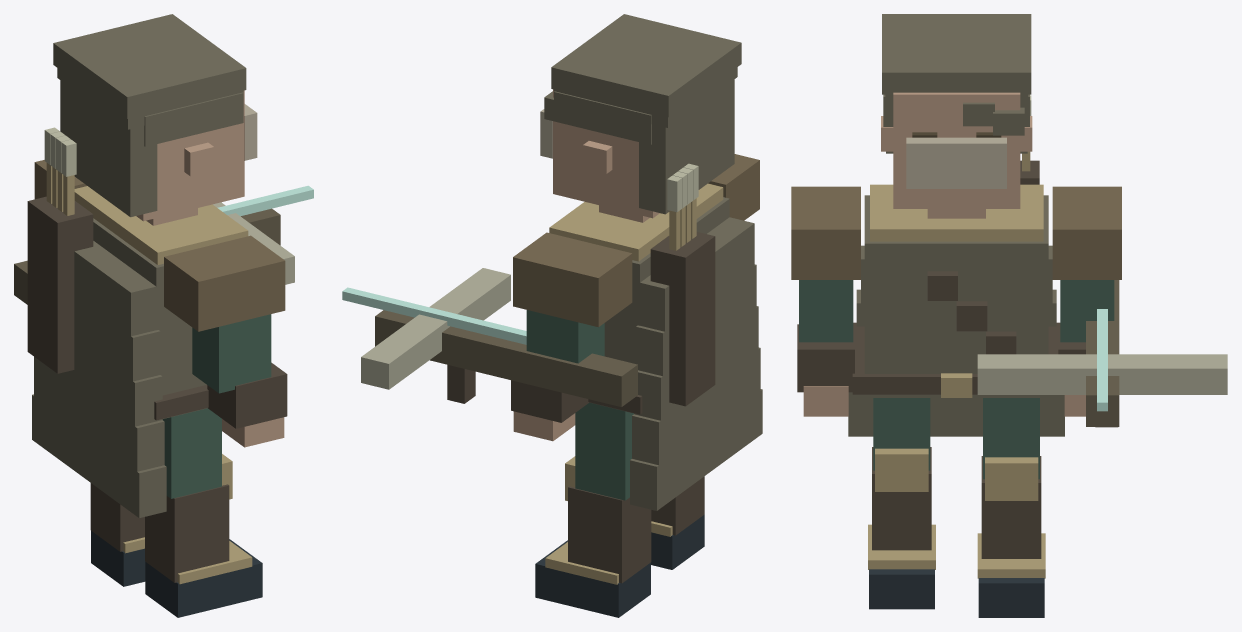
File: trail-arbalist.glb
3 views of the same model, side by side, from view 1: azimuth 30°, elevation 25°; view 2: azimuth 150°, elevation 25°; view 3: azimuth 270°, elevation 25° (orthographic). The views are drawn at different scales.
Parts seen in each view (by area): view 1: Cloak, Boots, Hood, Hair, Shoulders, Quiver, Head, Collar, Sleeves, Legs, Torso, Bracers (+10 smaller); view 2: Cloak, Boots, Hood, Hair, Shoulders, CrossbowStock, Quiver, CrossbowLimbs, Head, Legs, Collar, Sleeves (+9 smaller); view 3: Torso, Shoulders, Boots, Hood, CrossbowLimbs, Head, Legs, Collar, Sleeves, Cloak, Mask, Kneeguards (+11 smaller).
Part boxes in pixels (bbox=[...]): Cloak: bbox=[32, 241, 166, 518]; Boots: bbox=[90, 483, 262, 617]; Hood: bbox=[53, 14, 246, 118]; Hair: bbox=[57, 68, 243, 217]; Shoulders: bbox=[34, 160, 285, 331]; Quiver: bbox=[27, 196, 93, 373]; Head: bbox=[136, 90, 244, 221]; Collar: bbox=[74, 186, 248, 264]; Sleeves: bbox=[192, 314, 271, 393]; Legs: bbox=[162, 408, 221, 498]; Torso: bbox=[93, 218, 207, 418]; Bracers: bbox=[207, 362, 287, 428]; Cloak: bbox=[630, 217, 762, 510]; Boots: bbox=[535, 476, 704, 617]; Hood: bbox=[551, 14, 741, 117]; Hair: bbox=[544, 67, 737, 214]; Shoulders: bbox=[513, 154, 759, 327]; CrossbowStock: bbox=[375, 310, 637, 406]; Quiver: bbox=[650, 232, 715, 406]; CrossbowLimbs: bbox=[361, 268, 510, 389]; Head: bbox=[553, 89, 659, 218]; Legs: bbox=[575, 402, 633, 500]; Collar: bbox=[549, 183, 723, 261]; Sleeves: bbox=[526, 310, 604, 363]; Torso: bbox=[864, 195, 1048, 397]; Shoulders: bbox=[791, 186, 1121, 279]; Boots: bbox=[869, 447, 1044, 617]; Hood: bbox=[882, 14, 1031, 94]; CrossbowLimbs: bbox=[977, 354, 1227, 394]; Head: bbox=[893, 92, 1020, 208]; Legs: bbox=[873, 398, 1039, 479]; Collar: bbox=[870, 184, 1043, 241]; Sleeves: bbox=[799, 280, 1114, 342]; Cloak: bbox=[848, 245, 1064, 436]; Mask: bbox=[906, 137, 1006, 188]; Kneeguards: bbox=[875, 448, 1038, 500].
Size of the model in its own units: 5.28 by 8.59 by 6.28.
